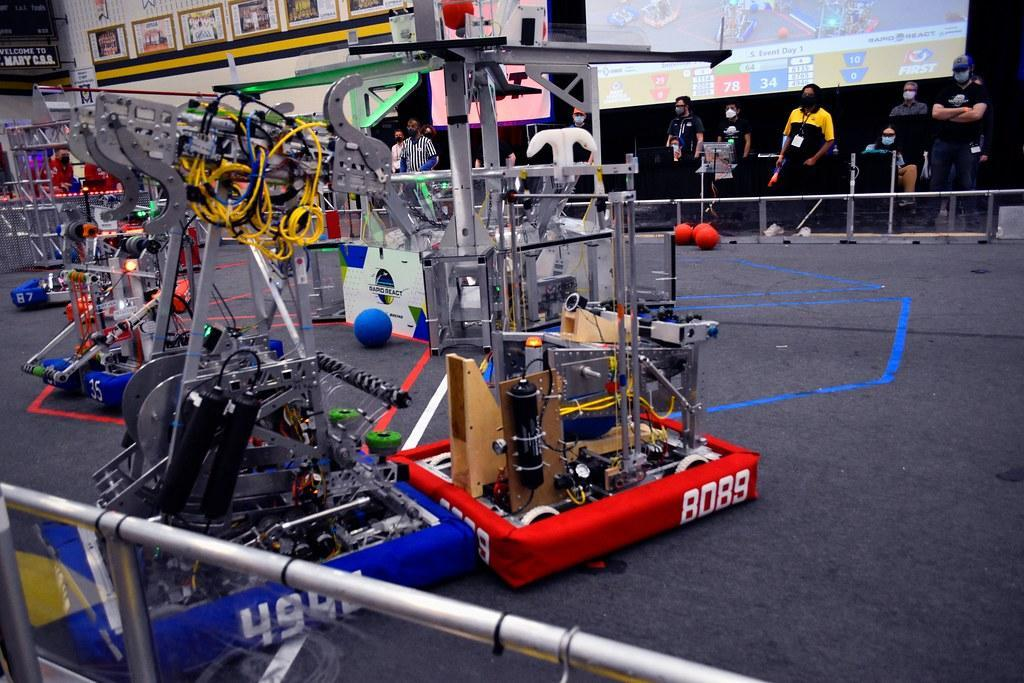robot: (35, 97, 480, 682), (383, 62, 762, 590)
